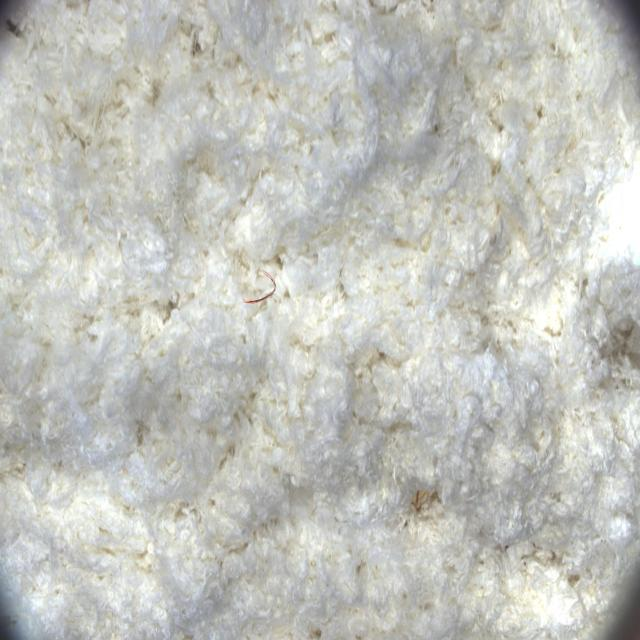dust: (240, 266, 278, 309)
